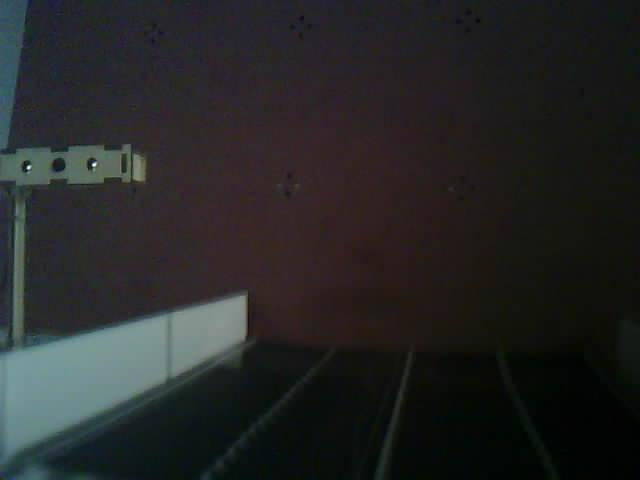no: (1, 135, 175, 344)
